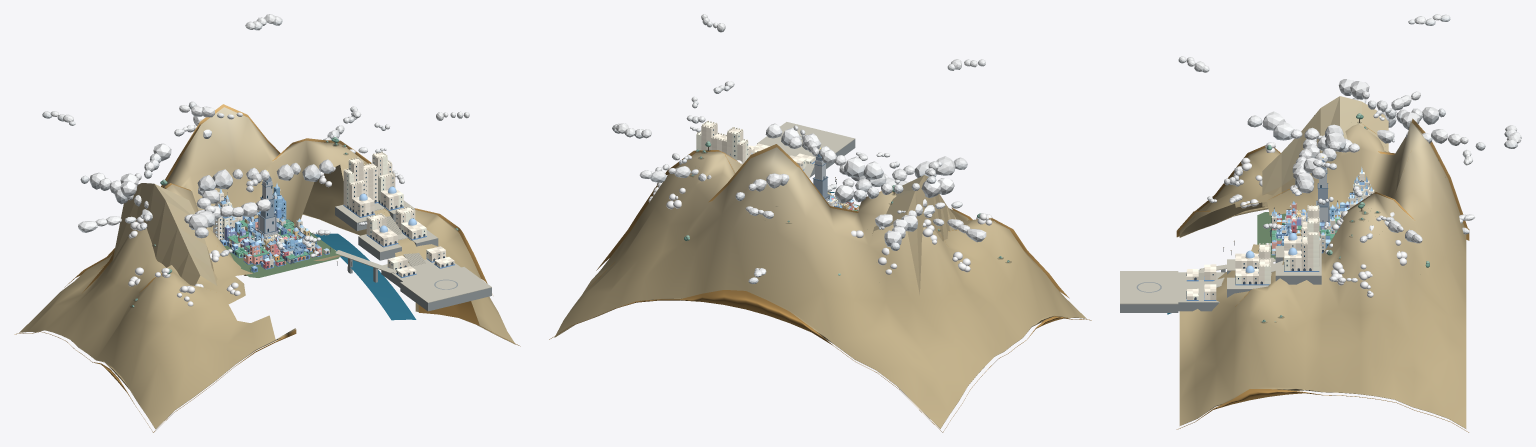
The model's file is current-castle-baseline.glb.
3 views of the same model, side by side, from view 1: azimuth 30°, elevation 25°; view 2: azimuth 150°, elevation 25°; view 3: azimuth 270°, elevation 25° (orthographic). The views are drawn at different scales.
Parts seen in each view (by area): view 1: citadel-oskar-grid-mountain-surface, highland-ravine-wall-west, west-city-crown, backlit-highlight-citadel-oskar-grid-mountain-surface, west-city-water-channel, west-city-plaza-deck, highland-hero-cloud-blob-cap, west-city-middle, highland-town-foundation-platform, town-terrace-0-level-2, town-terrace-0-level-3, town-terrace-0-level-1 (+8 smaller); view 2: citadel-oskar-grid-mountain-surface, backlit-highlight-citadel-oskar-grid-mountain-surface, highland-ravine-wall-west, highland-hero-cloud-blob-cap, west-city-crown, highland-hero-cloud-blob-windward:0, highland-hero-cloud-blob-windward:3, west-city-plaza-deck, highland-hero-cloud-blob-windward:1, highland-hero-cloud-blob-ridge:0:3; view 3: citadel-oskar-grid-mountain-surface, highland-ravine-wall-west, west-city-plaza-deck, backlit-highlight-citadel-oskar-grid-mountain-surface, west-city-crown, west-city-middle, highland-hero-cloud-blob-cap, highland-hero-cloud-blob-windward:3, highland-hero-cloud-blob-windward:0, west-city-harbor, west-city-harbor-promenade-0, town-terrace-0-level-3 (+5 smaller).
Boxes of the visible parts, bbox=[...] form: citadel-oskar-grid-mountain-surface: bbox=[19, 107, 515, 429]; highland-ravine-wall-west: bbox=[112, 183, 217, 285]; west-city-crown: bbox=[343, 151, 403, 217]; backlit-highlight-citadel-oskar-grid-mountain-surface: bbox=[14, 104, 520, 432]; west-city-water-channel: bbox=[314, 233, 416, 320]; west-city-plaza-deck: bbox=[400, 267, 491, 302]; highland-hero-cloud-blob-cap: bbox=[197, 159, 333, 191]; west-city-middle: bbox=[366, 206, 426, 247]; highland-town-foundation-platform: bbox=[224, 219, 340, 277]; town-terrace-0-level-2: bbox=[213, 214, 309, 255]; town-terrace-0-level-3: bbox=[215, 208, 309, 251]; town-terrace-0-level-1: bbox=[213, 218, 321, 265]; citadel-oskar-grid-mountain-surface: bbox=[554, 147, 1086, 428]; backlit-highlight-citadel-oskar-grid-mountain-surface: bbox=[549, 144, 1091, 432]; highland-ravine-wall-west: bbox=[872, 175, 958, 294]; highland-hero-cloud-blob-cap: bbox=[765, 123, 883, 179]; west-city-crown: bbox=[696, 120, 752, 163]; highland-hero-cloud-blob-windward:0: bbox=[834, 178, 954, 203]; highland-hero-cloud-blob-windward:3: bbox=[842, 156, 967, 192]; west-city-plaza-deck: bbox=[757, 122, 855, 157]; highland-hero-cloud-blob-windward:1: bbox=[884, 199, 927, 250]; highland-hero-cloud-blob-ridge:0:3: bbox=[735, 173, 789, 200]; citadel-oskar-grid-mountain-surface: bbox=[1179, 121, 1466, 428]; highland-ravine-wall-west: bbox=[1262, 96, 1388, 206]; west-city-plaza-deck: bbox=[1120, 271, 1178, 304]; backlit-highlight-citadel-oskar-grid-mountain-surface: bbox=[1176, 118, 1469, 432]; west-city-crown: bbox=[1283, 205, 1319, 271]; west-city-middle: bbox=[1234, 243, 1270, 285]; highland-hero-cloud-blob-cap: bbox=[1295, 124, 1346, 193]; highland-hero-cloud-blob-windward:3: bbox=[1247, 111, 1359, 152]; highland-hero-cloud-blob-windward:0: bbox=[1338, 79, 1420, 129]; west-city-harbor: bbox=[1186, 264, 1216, 300]; west-city-harbor-promenade-0: bbox=[1178, 272, 1224, 302]; town-terrace-0-level-3: bbox=[1285, 201, 1349, 240].
Size of the model in its own units: 184 by 114 by 165.
